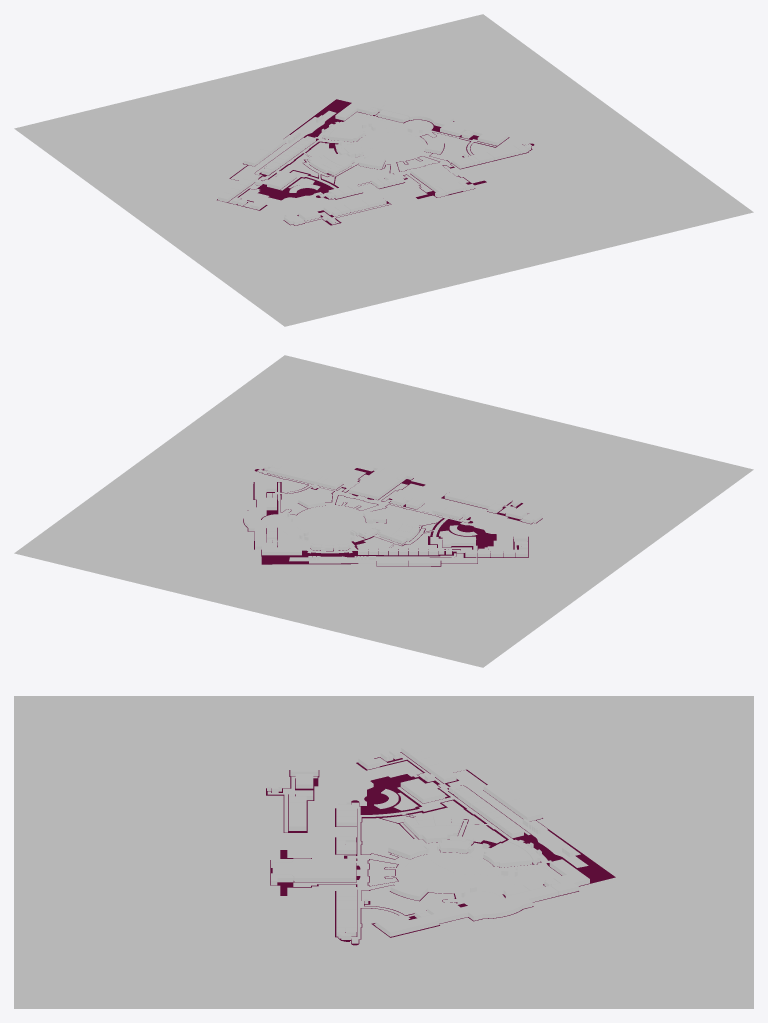
File: njc-l2-v3-11-4.glb
3 renders of one model, top to bottom at view 1: azimuth 30°, elevation 25°; view 2: azimuth 150°, elevation 25°; view 3: azimuth 270°, elevation 25°, orthographic. The views are drawn at different scales.
Visible parts, largest first — view 1: Grey, None, Base, Foot, Grass, Hall, Drive; view 2: Grey, None, Base, Foot, Grass, Hall, Drive; view 3: Grey, None, Base, Grass, Foot, Hall, Drive, LT5.
Boxes of the visible parts, x1,y1,x2,y2 form: Grey: [14, 14, 753, 326]; None: [218, 100, 527, 225]; Base: [217, 99, 534, 225]; Foot: [228, 112, 531, 223]; Grass: [255, 132, 470, 188]; Hall: [410, 163, 465, 195]; Drive: [230, 110, 336, 180]; Grey: [14, 355, 753, 667]; None: [244, 464, 542, 566]; Base: [243, 468, 542, 566]; Foot: [257, 469, 528, 553]; Grass: [281, 487, 471, 557]; Hall: [349, 468, 403, 499]; Drive: [289, 553, 477, 563]; Grey: [14, 696, 753, 1008]; None: [271, 744, 589, 936]; Base: [266, 752, 615, 945]; Grass: [361, 782, 530, 915]; Foot: [267, 752, 561, 943]; Hall: [271, 859, 356, 882]; Drive: [447, 770, 588, 867]; LT5: [412, 825, 459, 843].
Size of the model in its own units: 30 by 0.205 by 30.
